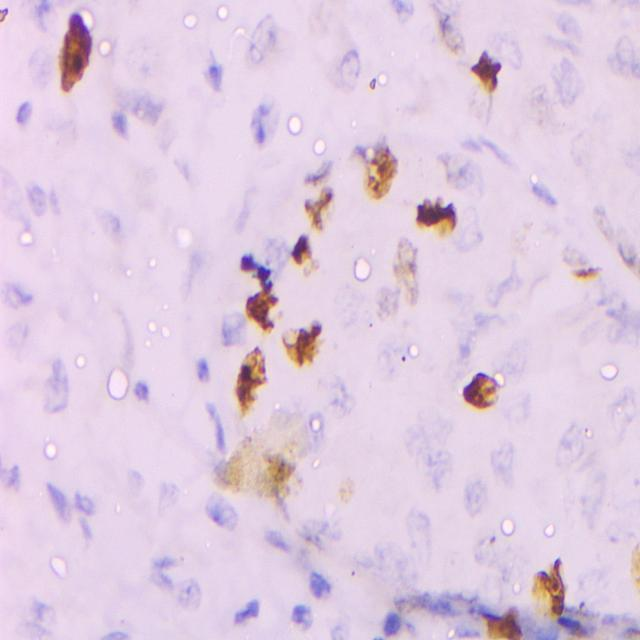Healthy cell: (446, 299, 491, 366), (309, 370, 358, 428), (125, 40, 177, 93), (540, 4, 588, 58), (574, 468, 610, 538), (597, 287, 640, 342), (607, 17, 640, 87), (38, 357, 72, 422), (116, 80, 162, 124), (603, 390, 640, 442), (442, 158, 492, 196), (373, 334, 416, 378), (22, 173, 59, 223), (299, 568, 343, 610), (326, 51, 364, 98), (40, 480, 73, 533), (461, 474, 494, 526), (250, 96, 282, 149), (403, 507, 435, 559), (420, 442, 452, 491), (22, 593, 56, 639), (199, 490, 234, 534), (492, 439, 520, 490), (502, 386, 536, 428), (329, 285, 362, 328), (555, 56, 587, 100), (459, 202, 486, 254), (28, 45, 61, 87), (386, 0, 421, 39), (179, 573, 211, 615), (229, 596, 267, 631), (402, 413, 437, 449), (199, 49, 226, 95), (249, 16, 276, 62), (0, 456, 24, 506), (33, 0, 58, 48), (552, 426, 578, 472), (94, 205, 126, 241), (1, 278, 32, 314), (192, 353, 222, 390), (502, 33, 532, 70), (147, 554, 177, 588), (72, 488, 100, 524), (289, 603, 315, 640), (9, 88, 36, 122), (260, 233, 288, 264), (216, 312, 243, 344), (529, 174, 556, 206), (323, 613, 354, 640), (92, 619, 131, 640), (113, 112, 136, 146), (129, 379, 154, 409)
cancer-cell-QiJm: (223, 434, 304, 508), (586, 199, 640, 272), (570, 133, 630, 197), (393, 593, 481, 632), (260, 399, 320, 454), (529, 553, 572, 623), (352, 139, 399, 200), (393, 228, 429, 306), (294, 503, 344, 557), (424, 0, 467, 58), (62, 8, 91, 92), (522, 86, 564, 142), (233, 343, 264, 417), (409, 192, 461, 236), (475, 532, 525, 577), (478, 596, 524, 640), (557, 244, 603, 286), (276, 323, 317, 366), (239, 289, 278, 333), (617, 534, 640, 604), (460, 370, 498, 412), (562, 599, 600, 640), (509, 215, 554, 249), (303, 187, 338, 230), (462, 85, 496, 128), (469, 49, 503, 91), (331, 468, 366, 507), (300, 157, 334, 191), (369, 284, 397, 324), (603, 610, 640, 640), (253, 260, 281, 290), (293, 238, 316, 274), (358, 62, 383, 94), (232, 248, 254, 276), (0, 0, 14, 26)
